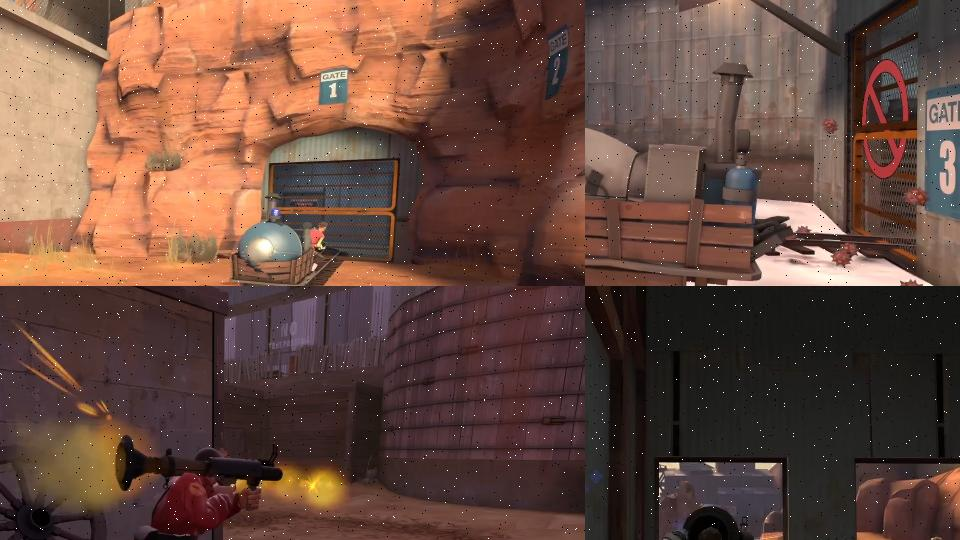Enemy: (110, 430, 283, 540), (308, 221, 329, 279)
